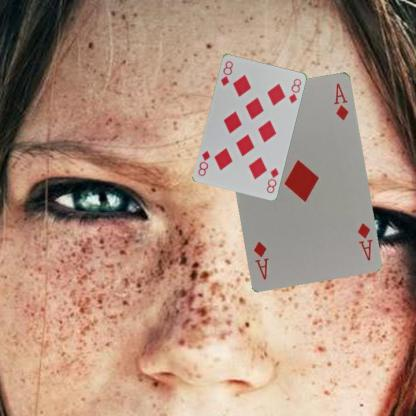8d: (264, 165, 280, 194), (218, 58, 234, 86)
Ad: (354, 220, 373, 262)
